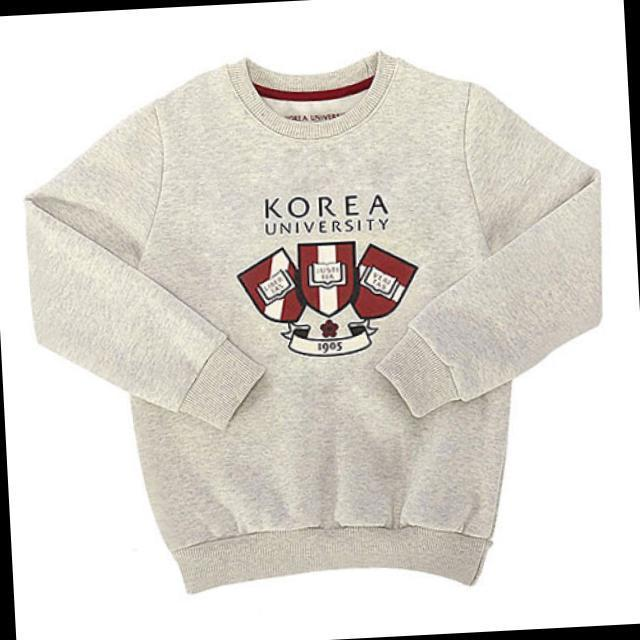sweater: (21, 53, 608, 597)
